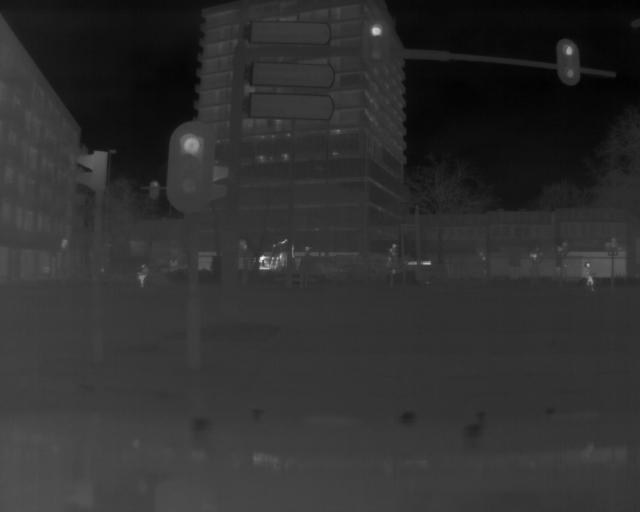person: (580, 261, 597, 294), (136, 262, 148, 290)
